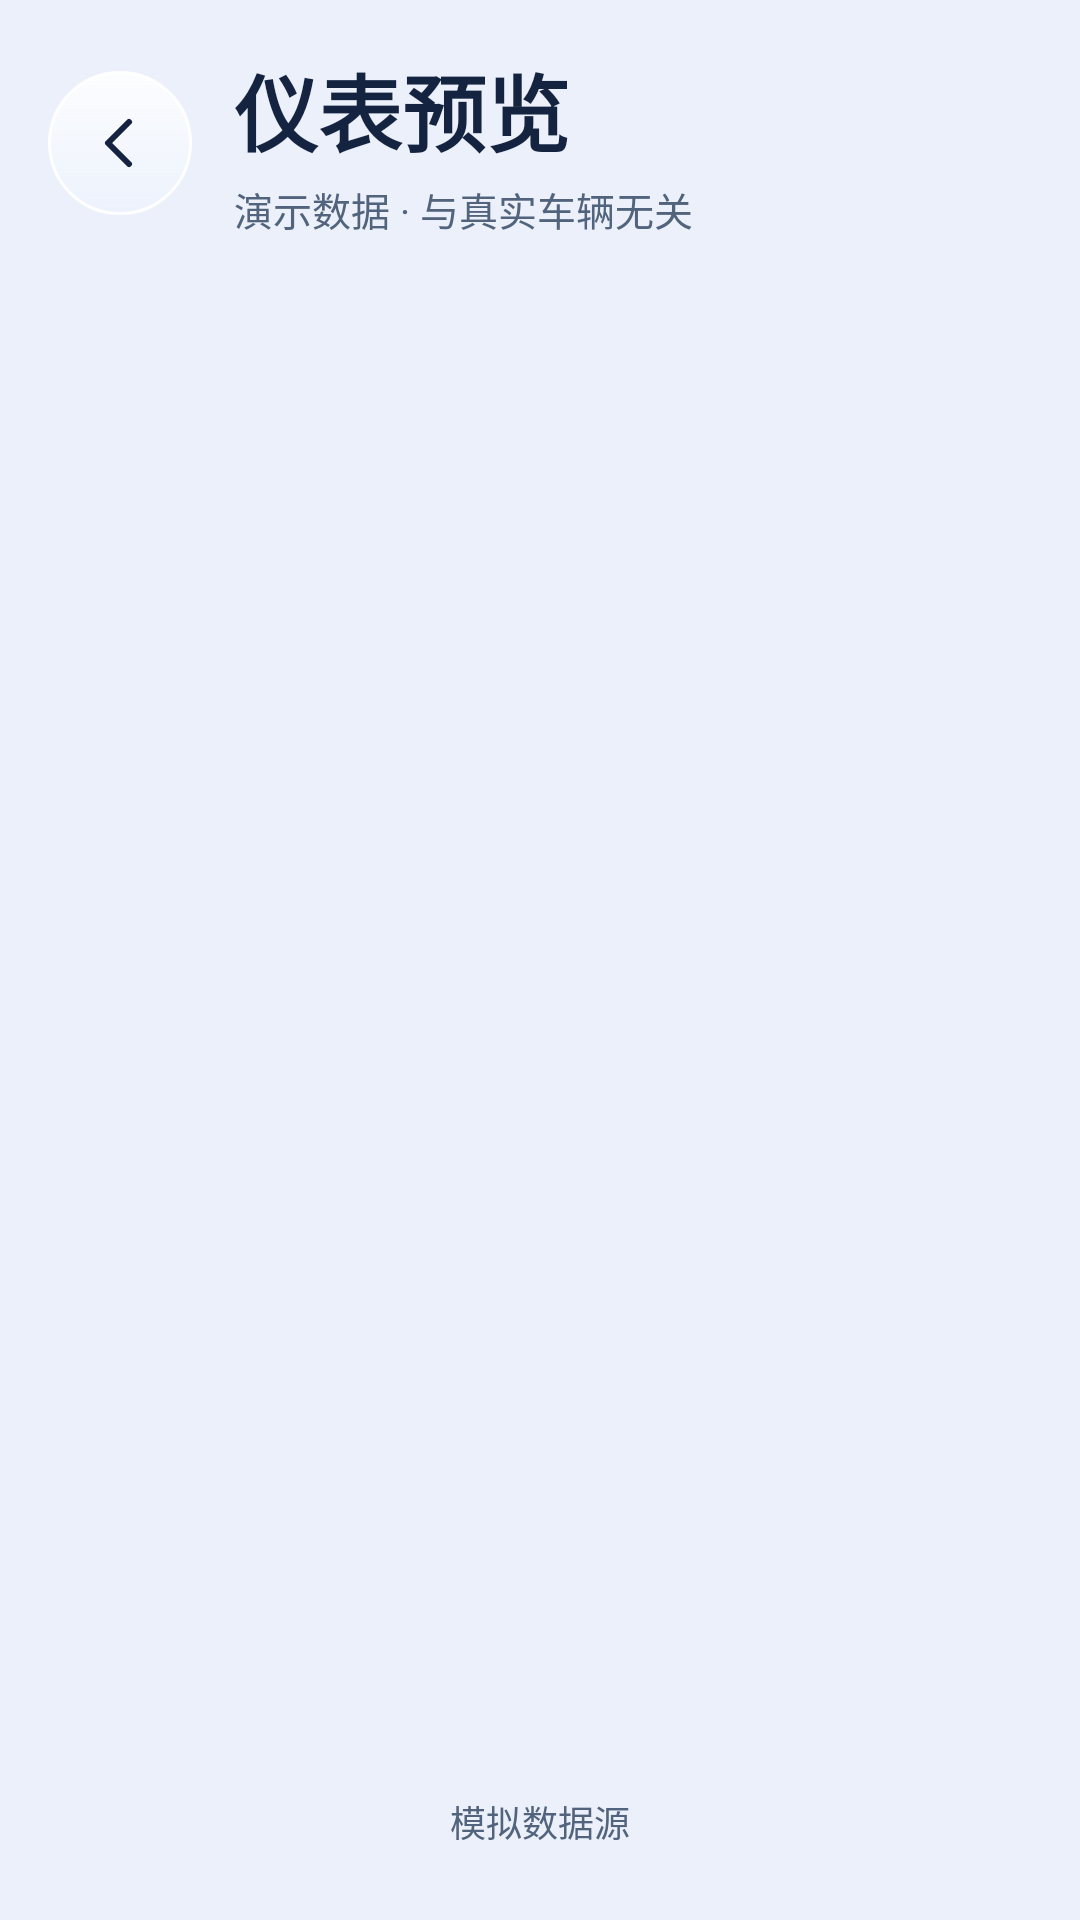

Icon bounding boxes for this 1080w x 1920h phone screenshot, format (x1, y1, x2, y2):
返回上一页: (105, 119, 132, 167)
